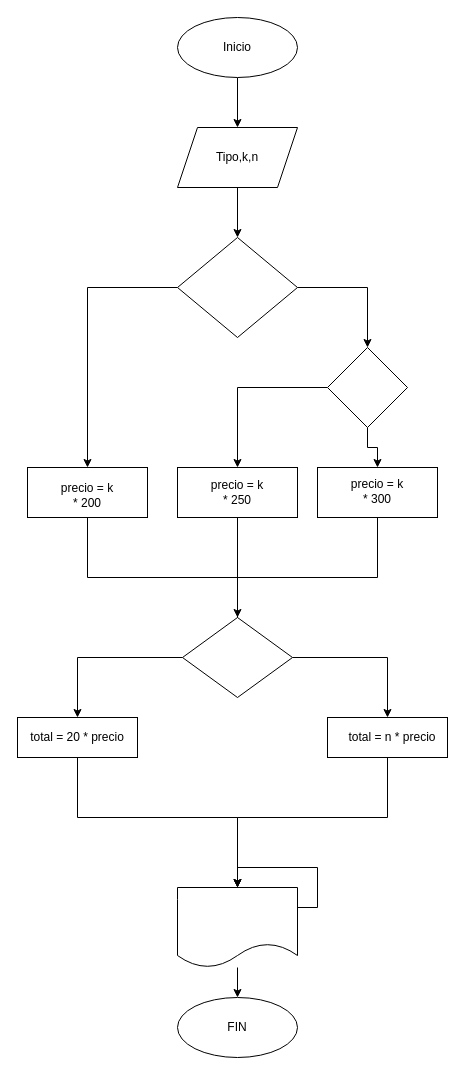
The diagram is 465 pixels wide and 1075 high, and some of its shapes have lost their labels. Each missing label, with the centre of its shape:
(n < 20): point 237,657
tipo= "A": point 237,287
tipo="B": point 367,387
total,total/n: point 237,927
